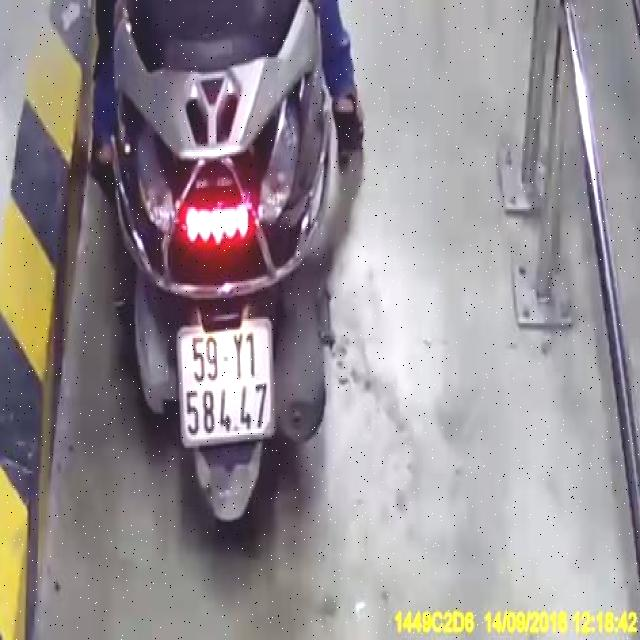1: (182, 388, 202, 440)
4: (253, 380, 269, 431), (220, 390, 233, 434), (239, 387, 252, 428)
5: (190, 334, 207, 384)
8: (203, 388, 217, 437)
9: (204, 334, 220, 384)
Y: (233, 331, 246, 384), (245, 329, 258, 382)
